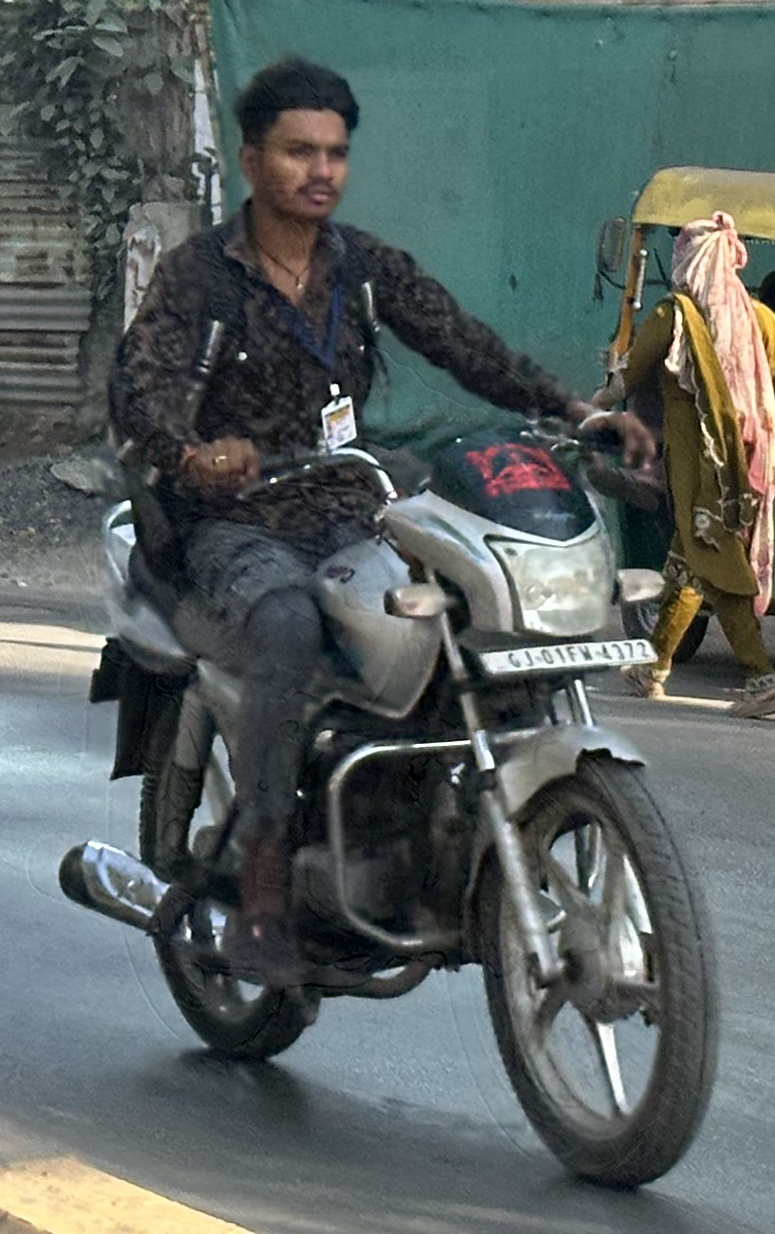BikeWithRider: (45, 40, 736, 1202)
NoHelmet: (215, 46, 377, 237)
